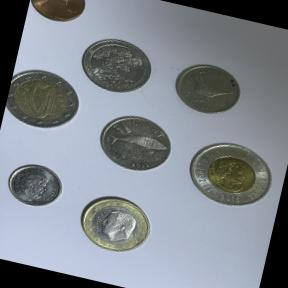coin: (174, 126, 285, 221), (68, 184, 162, 262), (90, 104, 182, 181), (2, 60, 88, 138), (71, 27, 161, 101), (0, 154, 68, 214), (25, 0, 95, 31)
